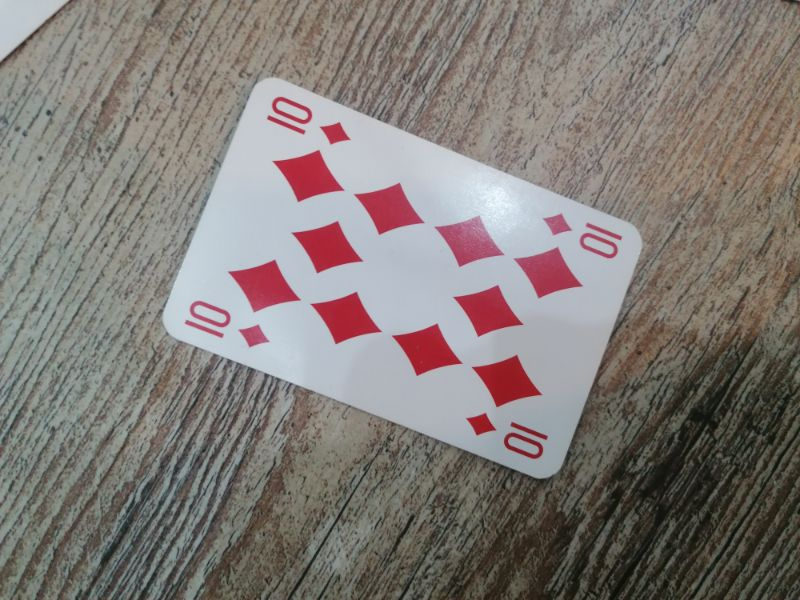Td: (260, 93, 355, 148), (182, 296, 273, 348), (463, 408, 552, 461), (541, 208, 626, 261)
